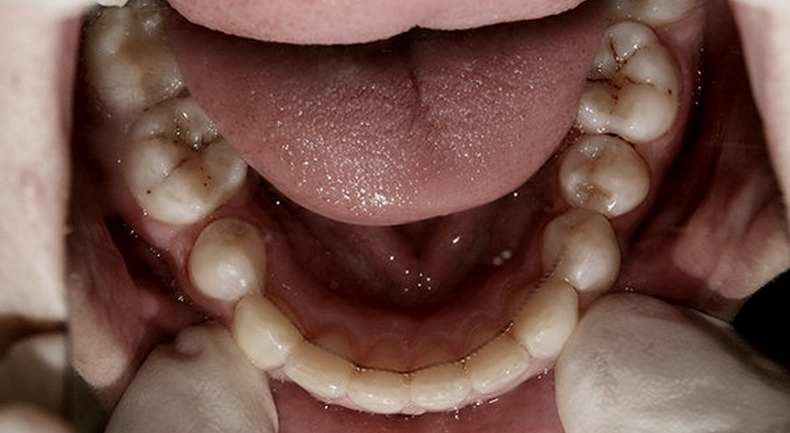LL1BC_decay: (541, 213, 619, 294)
LL1M_decay: (594, 29, 678, 139)
LL2BC_decay: (563, 142, 649, 214)
LLCI_decay: (410, 348, 468, 410)
LLC_decay: (509, 280, 579, 357)
LLLI_decay: (467, 333, 528, 392)
LR1BC_decay: (190, 219, 266, 300)
LR1M_decay: (93, 17, 178, 107)
LR2BC_decay: (126, 113, 236, 217)
LRCI_decay: (352, 339, 407, 411)
LRC_decay: (233, 292, 302, 362)
LRLI_decay: (292, 328, 353, 401)
